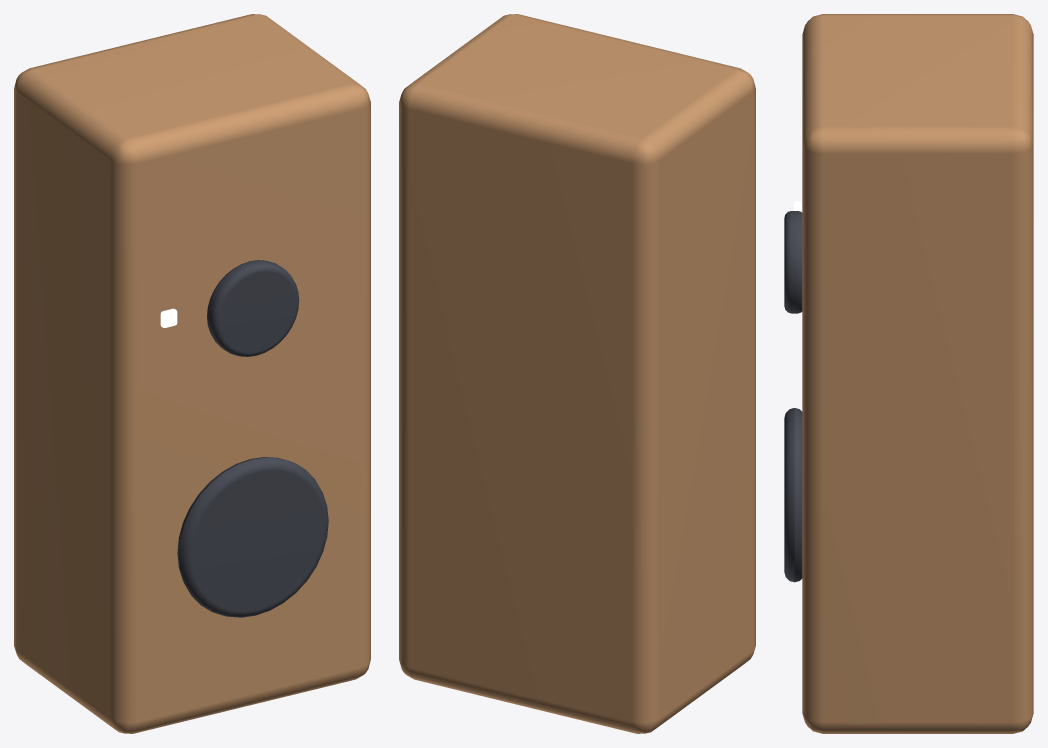
Rendered from livingSpeaker.glb.
The picture shows the model from 3 angles, left to right: view 1: azimuth 30°, elevation 25°; view 2: azimuth 150°, elevation 25°; view 3: azimuth 270°, elevation 25°; orthographic projection.
Visible parts, largest first — view 1: Speaker, Speaker cone, Speaker cone.001; view 2: Speaker; view 3: Speaker, Speaker cone, Speaker cone.001.
Boxes of the visible parts, x1,y1,x2,y2 form: Speaker: (14,14,370,733); Speaker cone: (177,457,328,617); Speaker cone.001: (207,260,299,356); Speaker: (399,14,755,733); Speaker: (802,14,1033,733); Speaker cone: (784,408,802,582); Speaker cone.001: (784,211,802,313).
Size of the model in its own units: 0.59 by 1.3 by 0.485.
